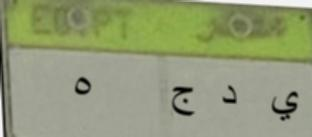5: (65, 71, 102, 103)
daal: (212, 82, 245, 112)
jeem: (167, 79, 200, 121)
yaa: (265, 87, 300, 128)
